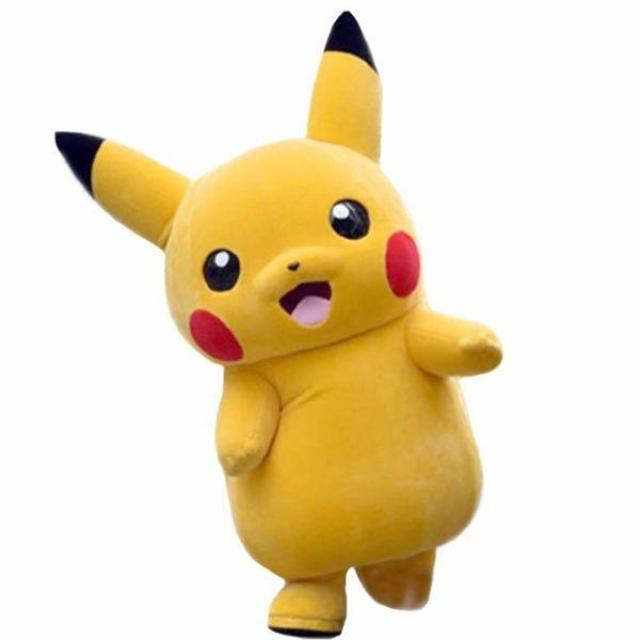pikachu: (50, 12, 508, 639)
